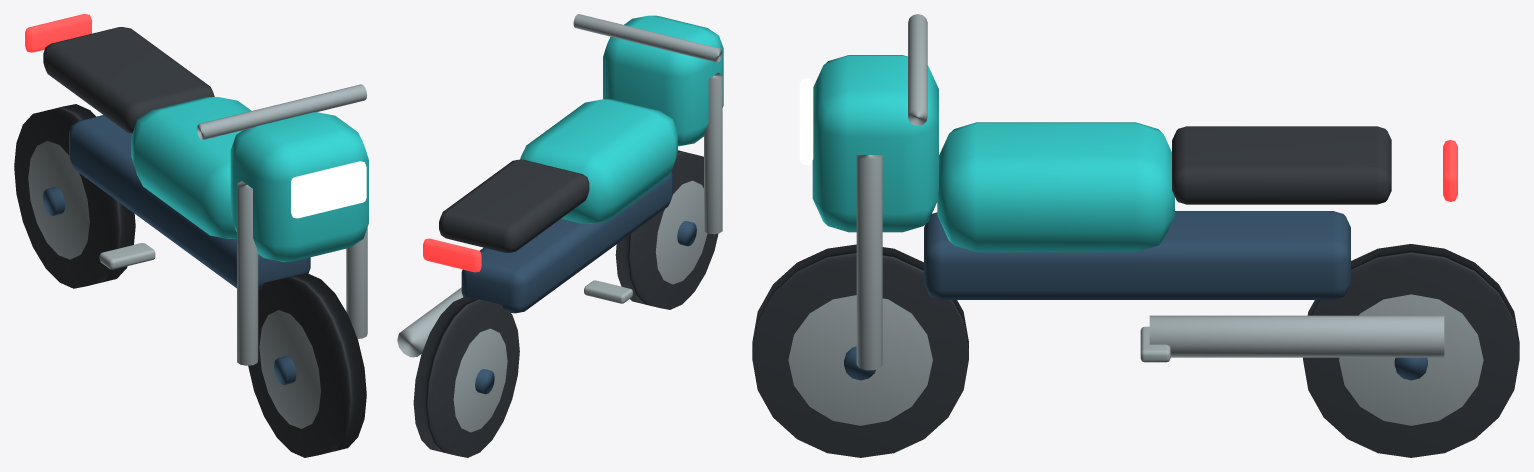
File: HL_Motorcycle_Tide.fbx
3 views of the same model, side by side, from view 1: azimuth 30°, elevation 25°; view 2: azimuth 150°, elevation 25°; view 3: azimuth 270°, elevation 25° (orthographic). The views are drawn at different scales.
Visible parts, largest first — view 1: Motorcycle | front fairing, Motorcycle | wheel rubber, Motorcycle | fuel tank, Motorcycle | seat, Motorcycle | frame, Motorcycle | wheel rubber.001, Motorcycle | wheel rim, Motorcycle | wheel rim.001, Motorcycle | fork, Motorcycle | headlight, Motorcycle | handlebar, Motorcycle | fork.001 (+4 smaller); view 2: Motorcycle | fuel tank, Motorcycle | frame, Motorcycle | wheel rubber.001, Motorcycle | front fairing, Motorcycle | seat, Motorcycle | wheel rubber, Motorcycle | wheel rim.001, Motorcycle | wheel rim, Motorcycle | fork, Motorcycle | handlebar, Motorcycle | exhaust, Motorcycle | rear lamp (+3 smaller); view 3: Motorcycle | fuel tank, Motorcycle | frame, Motorcycle | wheel rubber, Motorcycle | wheel rubber.001, Motorcycle | front fairing, Motorcycle | seat, Motorcycle | exhaust, Motorcycle | wheel rim, Motorcycle | wheel rim.001, Motorcycle | fork.001, Motorcycle | handlebar, Motorcycle | headlight (+1 smaller).
Boxes of the visible parts, left/top/right/bottom form: Motorcycle | front fairing: left=230, top=112, right=368, bottom=261; Motorcycle | wheel rubber: left=248, top=273, right=366, bottom=457; Motorcycle | fuel tank: left=131, top=97, right=251, bottom=238; Motorcycle | seat: left=43, top=27, right=214, bottom=133; Motorcycle | frame: left=69, top=115, right=310, bottom=289; Motorcycle | wheel rubber.001: left=14, top=104, right=135, bottom=288; Motorcycle | wheel rim: left=259, top=310, right=320, bottom=428; Motorcycle | wheel rim.001: left=28, top=141, right=89, bottom=259; Motorcycle | fork: left=237, top=181, right=258, bottom=365; Motorcycle | headlight: left=291, top=161, right=366, bottom=218; Motorcycle | handlebar: left=197, top=84, right=366, bottom=139; Motorcycle | fork.001: left=346, top=228, right=367, bottom=338; Motorcycle | fuel tank: left=520, top=99, right=677, bottom=223; Motorcycle | frame: left=461, top=171, right=672, bottom=313; Motorcycle | wheel rubber.001: left=413, top=296, right=519, bottom=457; Motorcycle | front fairing: left=603, top=15, right=723, bottom=146; Motorcycle | seat: left=439, top=159, right=589, bottom=252; Motorcycle | wheel rubber: left=615, top=150, right=718, bottom=309; Motorcycle | wheel rim.001: left=453, top=328, right=507, bottom=432; Motorcycle | wheel rim: left=655, top=180, right=707, bottom=284; Motorcycle | fork: left=704, top=72, right=722, bottom=234; Motorcycle | handlebar: left=573, top=14, right=722, bottom=62; Motorcycle | exhaust: left=397, top=287, right=462, bottom=357; Motorcycle | rear lamp: left=423, top=238, right=481, bottom=272; Motorcycle | fuel tank: left=937, top=122, right=1174, bottom=252; Motorcycle | frame: left=924, top=211, right=1350, bottom=299; Motorcycle | wheel rubber: left=752, top=244, right=968, bottom=457; Motorcycle | wheel rubber.001: left=1303, top=244, right=1519, bottom=457; Motorcycle | front fairing: left=812, top=55, right=938, bottom=232; Motorcycle | seat: left=1172, top=126, right=1391, bottom=204; Motorcycle | exhaust: left=1149, top=315, right=1444, bottom=357; Motorcycle | wheel rim: left=788, top=295, right=932, bottom=425; Motorcycle | wheel rim.001: left=1339, top=294, right=1483, bottom=425; Motorcycle | fork.001: left=856, top=155, right=882, bottom=370; Motorcycle | handlebar: left=908, top=14, right=927, bottom=125; Motorcycle | headlight: left=799, top=78, right=813, bottom=165.
Size of the model in its own units: 74 by 142 by 255.
